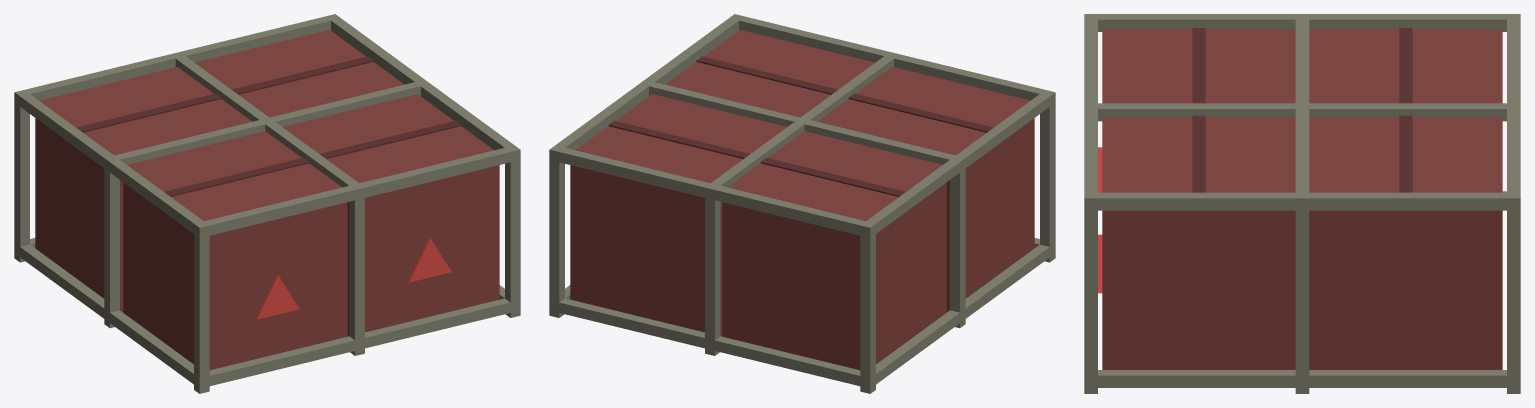
Rendered from oc_explosives_crate.obj.
The picture shows the model from 3 angles, left to right: view 1: azimuth 30°, elevation 25°; view 2: azimuth 150°, elevation 25°; view 3: azimuth 270°, elevation 25°; orthographic projection. The views are drawn at different scales.
Visible parts, largest first — view 1: oc_explosives_crate_0, oc_explosives_crate_4, oc_explosives_crate_2, oc_explosives_crate_6, oc_explosives_crate_20, oc_explosives_crate_16, oc_explosives_crate_21, oc_explosives_crate_25, oc_explosives_crate_22, oc_explosives_crate_18, oc_explosives_crate_23, oc_explosives_crate_24 (+11 smaller); view 2: oc_explosives_crate_2, oc_explosives_crate_6, oc_explosives_crate_0, oc_explosives_crate_4, oc_explosives_crate_17, oc_explosives_crate_21, oc_explosives_crate_20, oc_explosives_crate_25, oc_explosives_crate_22, oc_explosives_crate_18, oc_explosives_crate_23, oc_explosives_crate_24 (+9 smaller); view 3: oc_explosives_crate_4, oc_explosives_crate_6, oc_explosives_crate_0, oc_explosives_crate_2, oc_explosives_crate_23, oc_explosives_crate_19, oc_explosives_crate_22, oc_explosives_crate_24, oc_explosives_crate_14, oc_explosives_crate_13, oc_explosives_crate_15, oc_explosives_crate_21 (+6 smaller).
Part boxes in pixels (box(x1,y1,x2,y2)): oc_explosives_crate_0: box(123, 131, 347, 370); oc_explosives_crate_4: box(283, 94, 499, 336); oc_explosives_crate_2: box(35, 67, 252, 312); oc_explosives_crate_6: box(195, 30, 404, 117); oc_explosives_crate_20: box(194, 146, 520, 237); oc_explosives_crate_16: box(194, 298, 520, 387); oc_explosives_crate_21: box(14, 14, 339, 105); oc_explosives_crate_25: box(114, 82, 420, 164); oc_explosives_crate_22: box(20, 94, 203, 233); oc_explosives_crate_18: box(20, 244, 193, 384); oc_explosives_crate_23: box(331, 18, 514, 150); oc_explosives_crate_24: box(175, 56, 358, 187); oc_explosives_crate_2: box(722, 131, 946, 370); oc_explosives_crate_6: box(570, 94, 786, 336); oc_explosives_crate_0: box(817, 67, 1034, 312); oc_explosives_crate_4: box(665, 30, 874, 117); oc_explosives_crate_17: box(549, 298, 875, 387); oc_explosives_crate_21: box(549, 146, 875, 236); oc_explosives_crate_20: box(730, 15, 1055, 103); oc_explosives_crate_25: box(649, 82, 955, 164); oc_explosives_crate_22: box(866, 94, 1049, 233); oc_explosives_crate_18: box(876, 244, 1049, 384); oc_explosives_crate_23: box(555, 18, 738, 150); oc_explosives_crate_24: box(711, 56, 894, 187); oc_explosives_crate_4: box(1102, 117, 1295, 369); oc_explosives_crate_6: box(1309, 117, 1502, 369); oc_explosives_crate_0: box(1102, 29, 1295, 103); oc_explosives_crate_2: box(1309, 29, 1502, 103); oc_explosives_crate_23: box(1098, 192, 1506, 210); oc_explosives_crate_19: box(1098, 370, 1506, 387); oc_explosives_crate_22: box(1098, 14, 1506, 31); oc_explosives_crate_24: box(1098, 103, 1506, 121); oc_explosives_crate_14: box(1295, 192, 1309, 393); oc_explosives_crate_13: box(1084, 192, 1097, 393); oc_explosives_crate_15: box(1507, 192, 1520, 393); oc_explosives_crate_21: box(1507, 14, 1520, 210).
Size of the model in its own units: 1.94 by 0.96 by 1.94.
